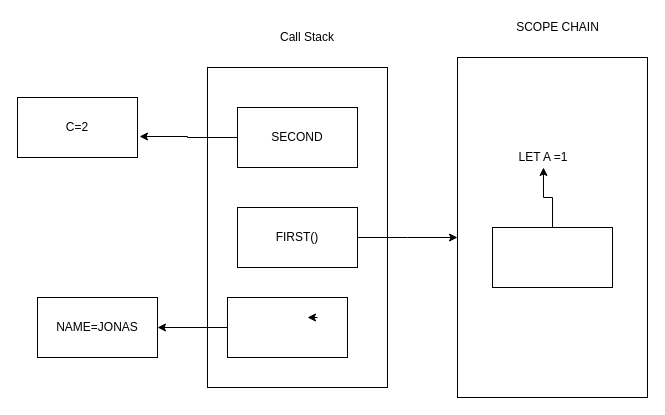
The diagram is 665 pixels wide and 415 high, and some of its shapes have lost their labels. Each missing label, with the box of its shape:
GEC: (226, 296, 348, 358)
SECOND() A?: (492, 226, 612, 288)
